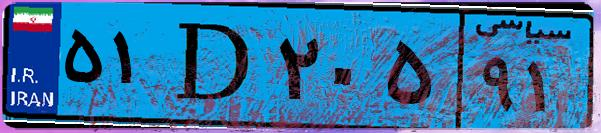0: (330, 28, 385, 110)
1: (525, 38, 570, 115), (110, 28, 158, 98)
2: (270, 28, 330, 110)
5: (385, 28, 445, 110), (57, 26, 110, 100)
9: (475, 38, 525, 113)
D: (158, 12, 270, 120)
